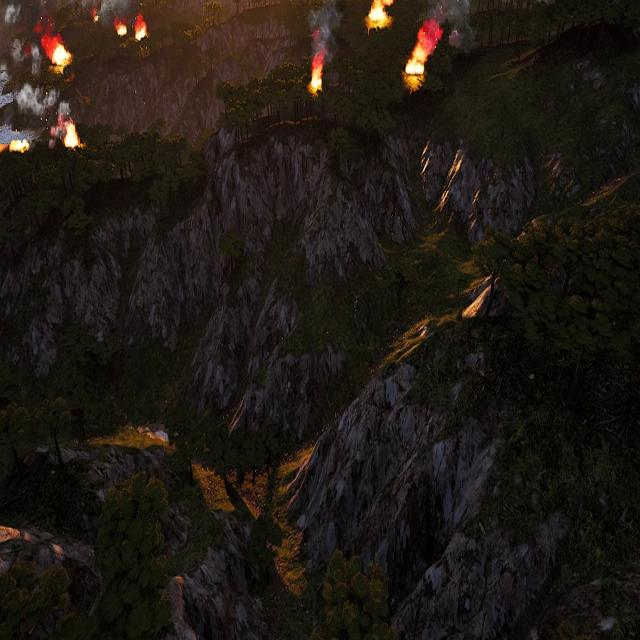fire: (406, 44, 430, 82), (368, 0, 394, 27), (310, 57, 324, 92), (53, 45, 73, 69), (65, 123, 81, 150), (2, 139, 28, 152), (135, 23, 147, 41), (114, 24, 126, 37)
smoke: (0, 0, 52, 94), (418, 0, 476, 52), (307, 0, 340, 61), (16, 85, 68, 122), (76, 0, 136, 24), (3, 1, 21, 25)
